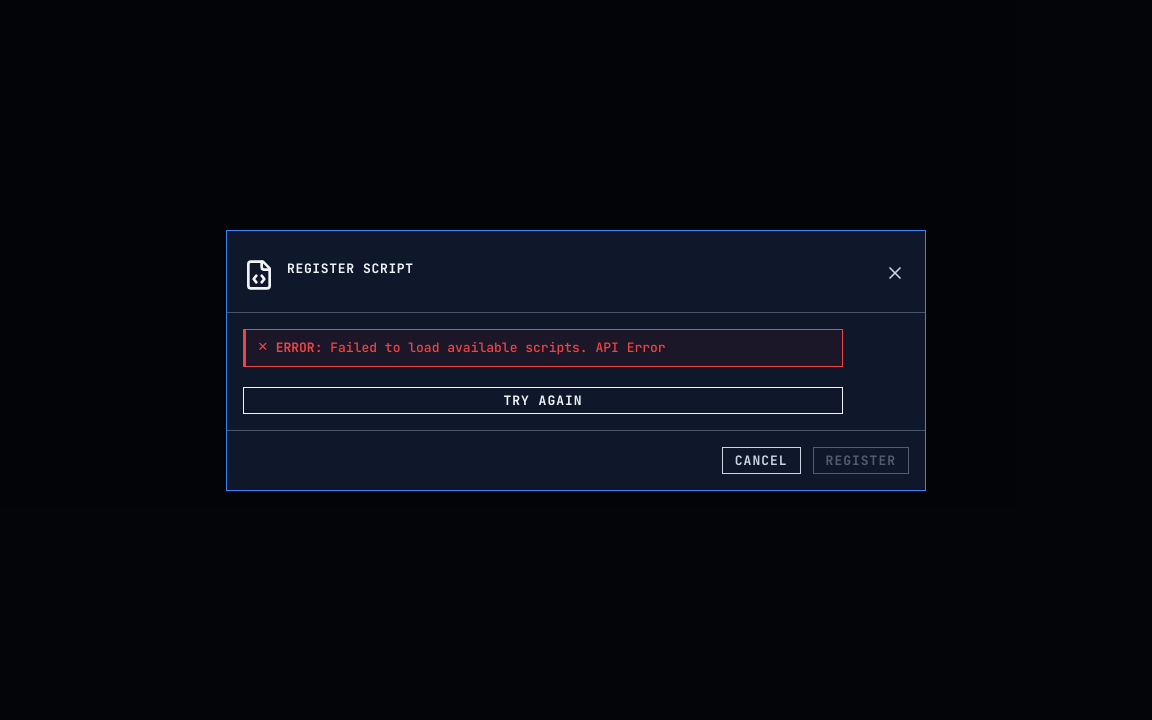
it: RegisterScriptModal › Error Handling › should allow retry after fetch error
The image size is (1152, 720).
Expected: the text "ERROR: Failed to load available scripts. API Error" is shown, 276,339 -> 666,356
Click the button "TRY AGAIN" at (543, 400), box 243,386 -> 843,414
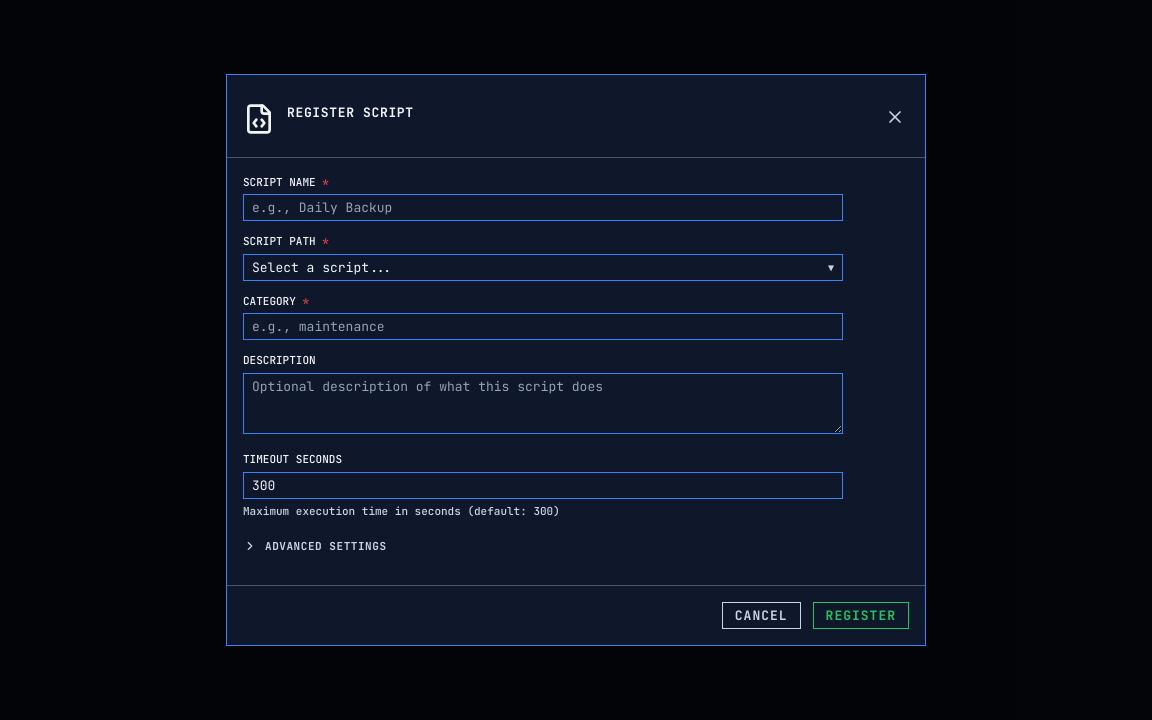
Expected: the field labelled "SCRIPT NAME *" is shown, 243,194 -> 843,221
